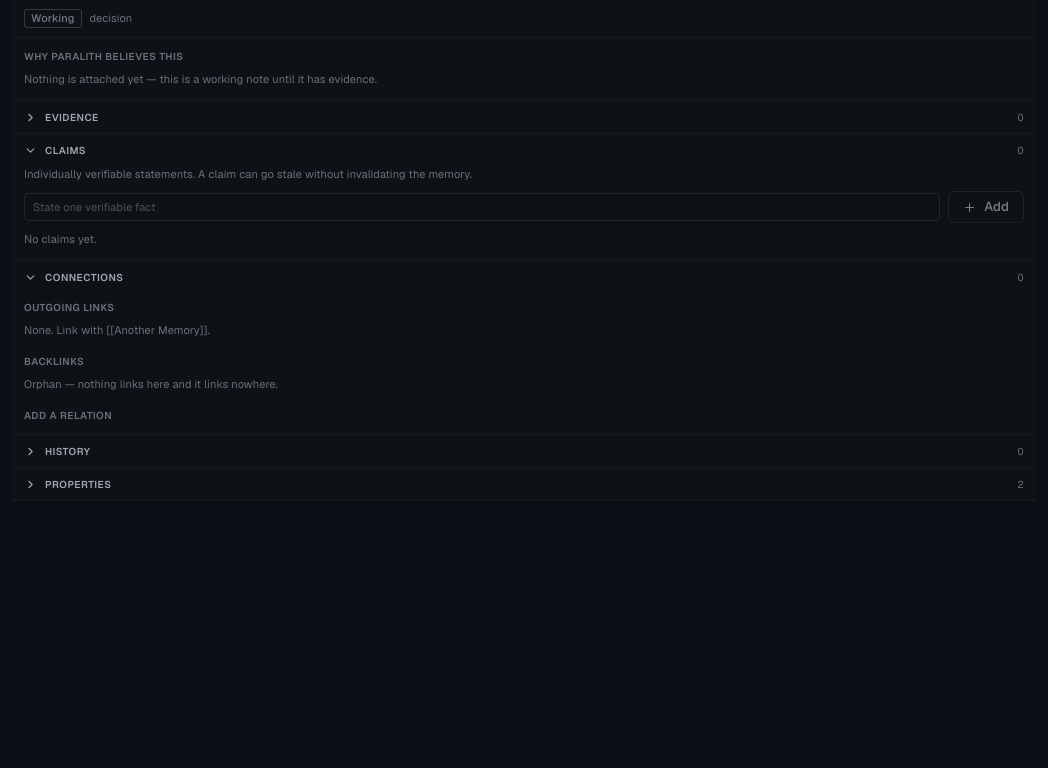
MemoryInspector › says a memory has no evidence rather than rendering a clean empty panel
This screenshot has width=1048, height=768.
Note: Evidence is collapsed by default: progressive disclosure, so the panel is not a wall.
Step 1. Click the button "Evidence 0" → (72,117), box [12,101,1036,133]
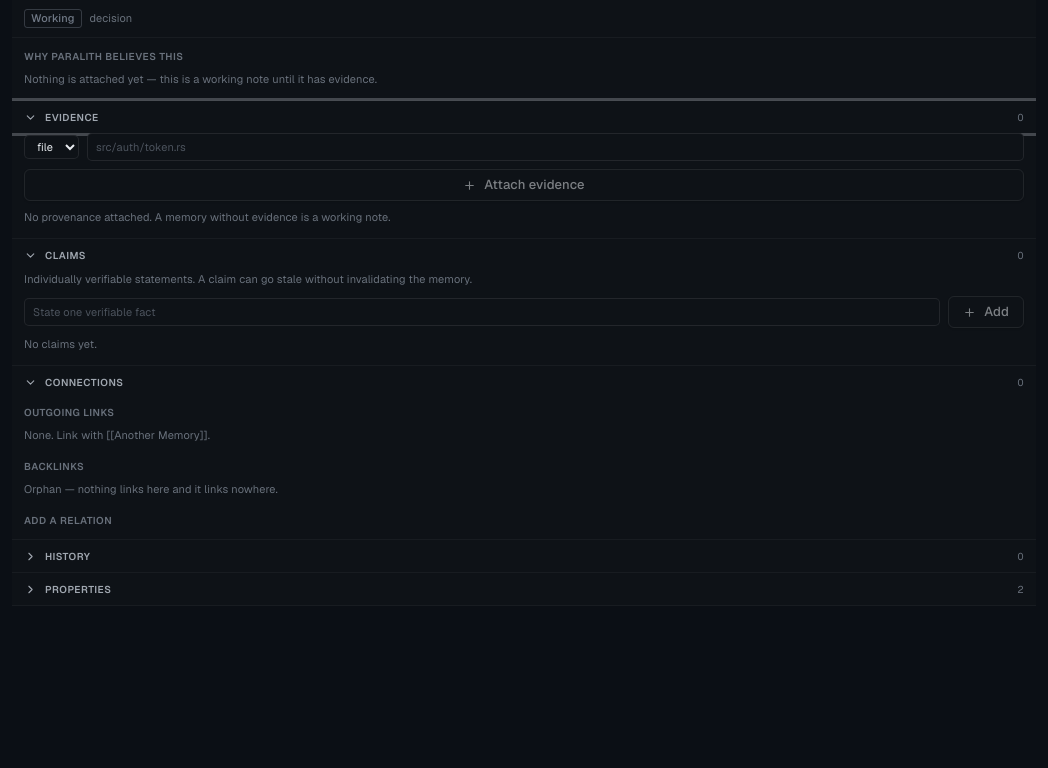
Expected: the text "A memory without evidence is a working note" is shown, [24,210,391,224]
